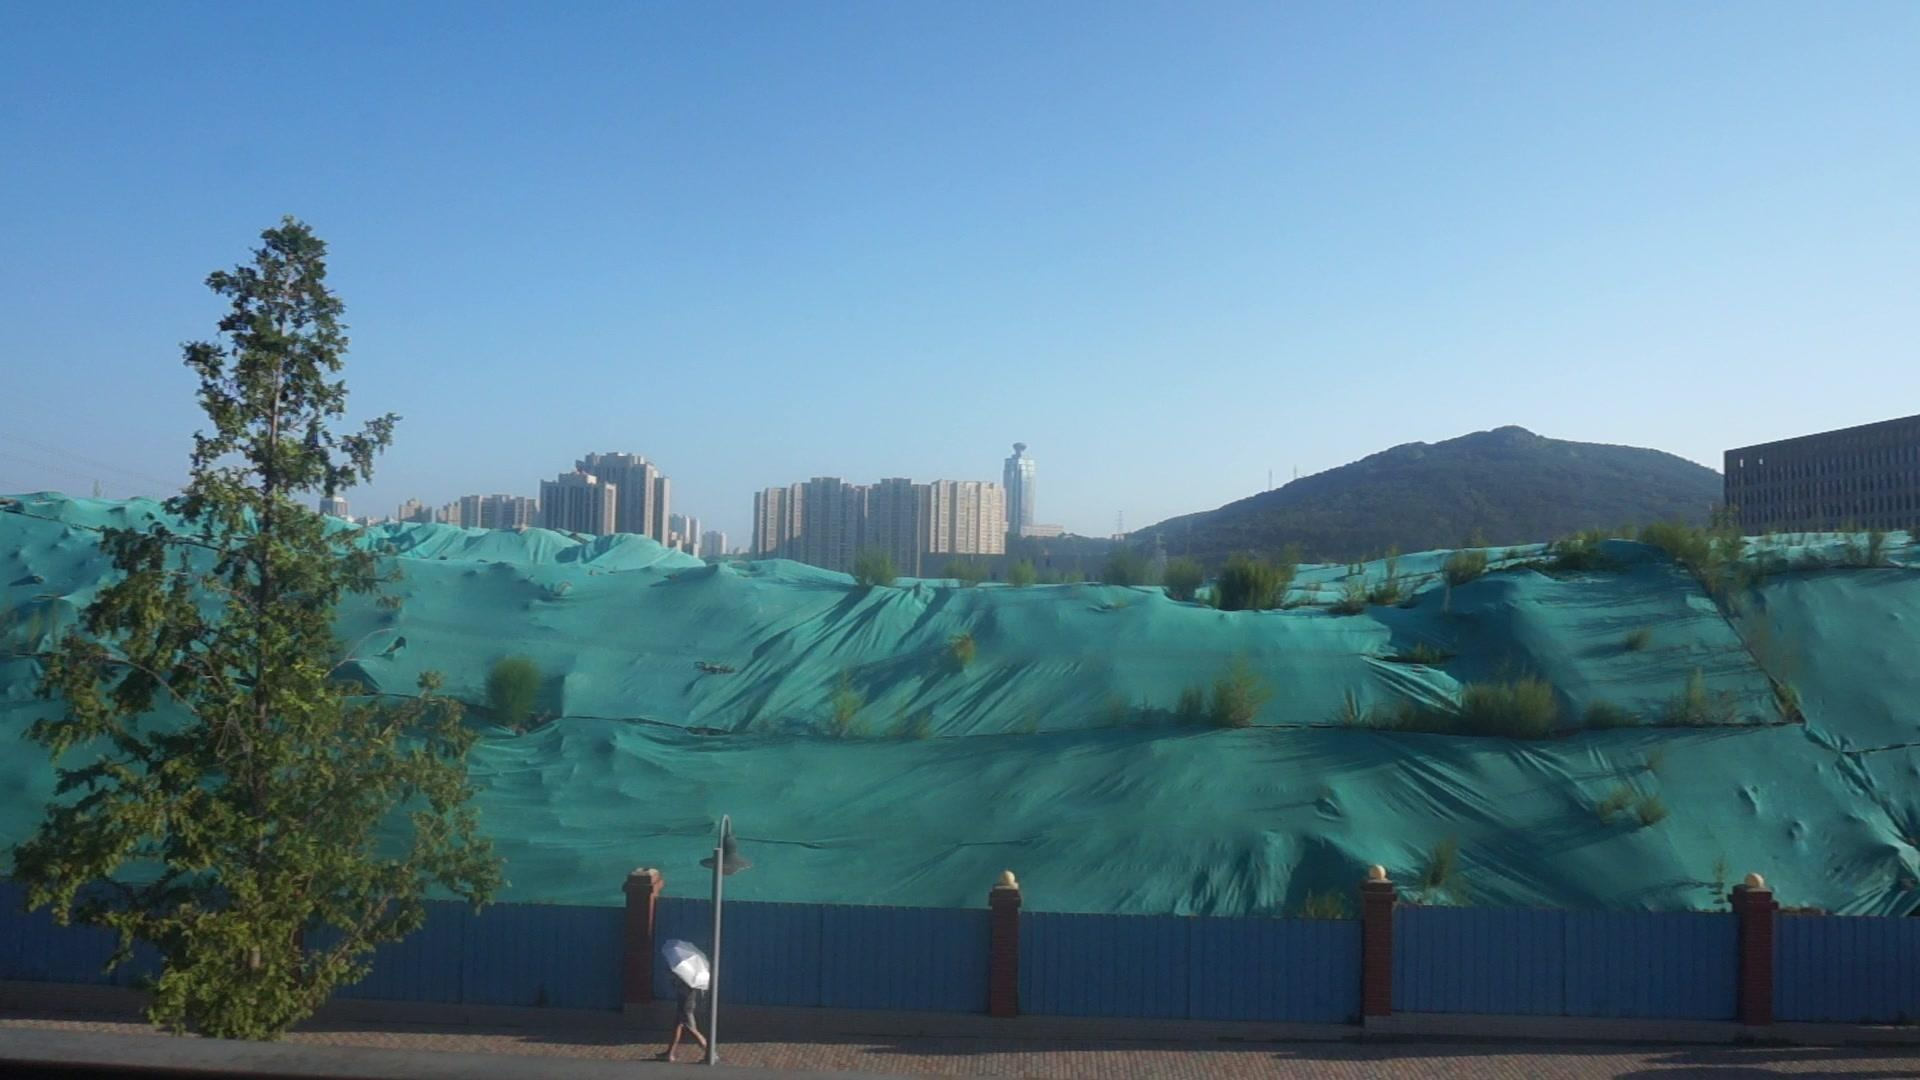UAV: (695, 661, 736, 675)
